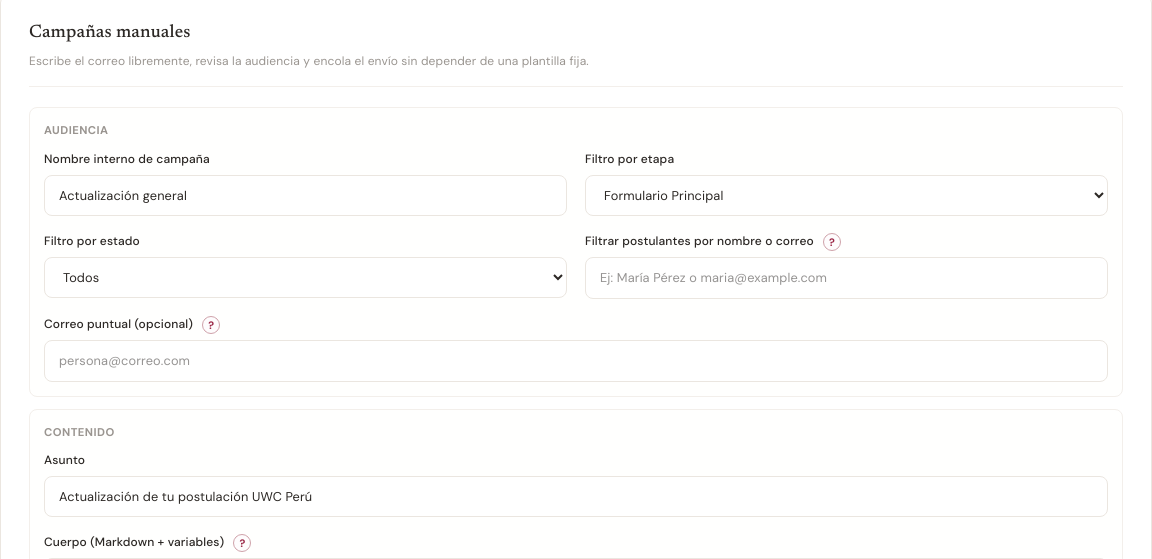
AdminCommunicationsCenter › completes direct send confirmation flow with delivery status message
(page scrolled)
Step 1. Type "dafirebanks@gmail.com" into the field labelled "Correo puntual (opcional)" → (576, 361), box x1=44 y1=340 x2=1108 y2=382
(page scrolled)
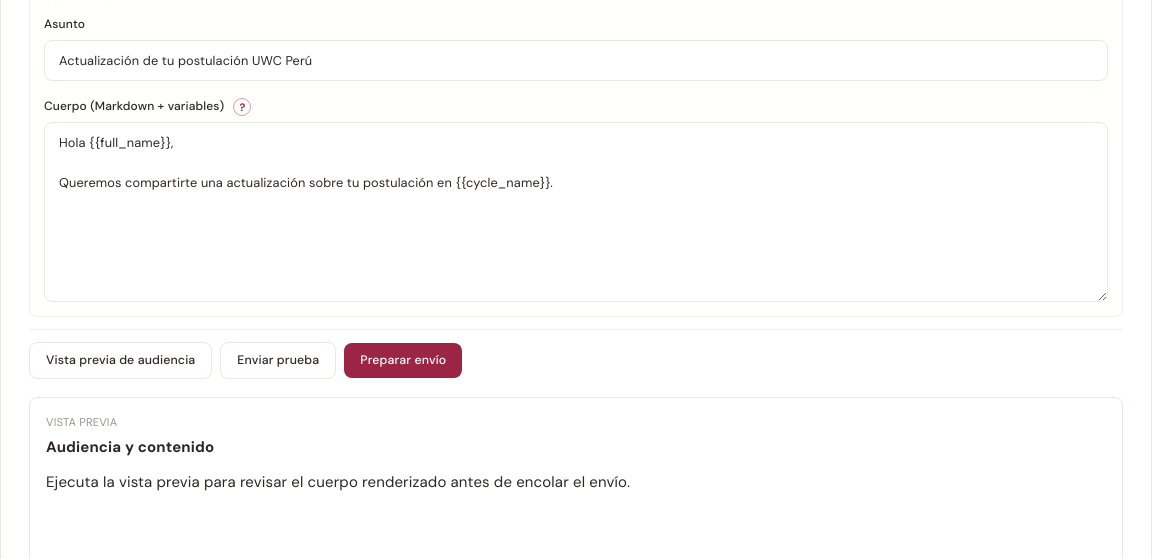
Step 2. Click the button "Preparar envío" → (403, 361), box x1=344 y1=343 x2=462 y2=378
(page scrolled)
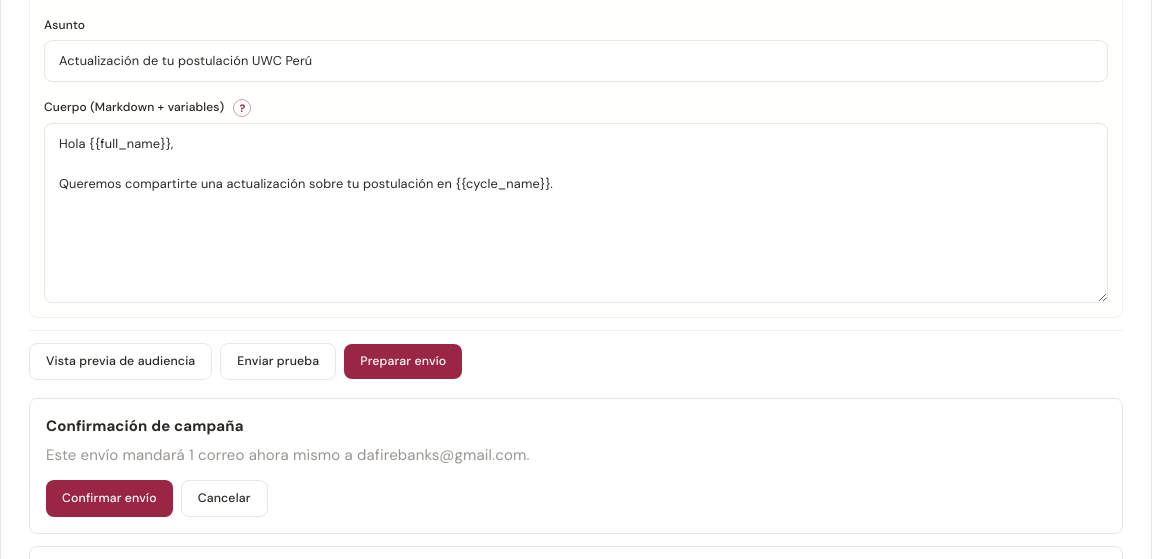
Step 3. Click the button "Confirmar envío" → (109, 498), box x1=46 y1=480 x2=173 y2=517
(page scrolled)
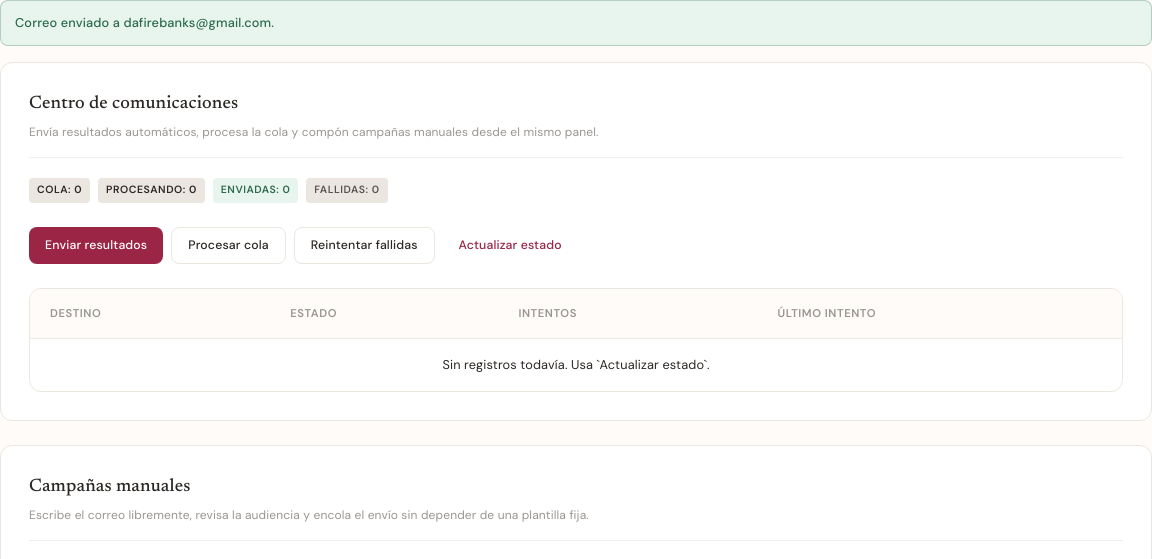
Now the text "Correo enviado a dafirebanks@gmail.com." is shown, box x1=0 y1=0 x2=1151 y2=46
